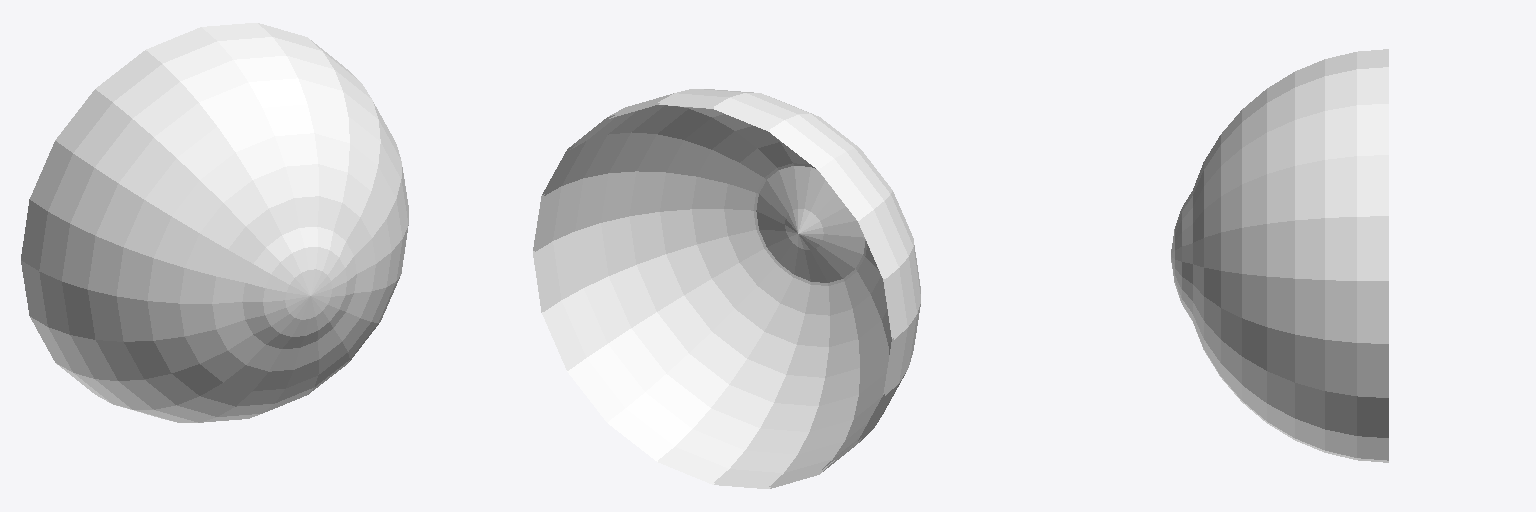
Rendered from eye.obj.
3 renders of one model, left to right at view 1: azimuth 30°, elevation 25°; view 2: azimuth 150°, elevation 25°; view 3: azimuth 270°, elevation 25°, orthographic.
Bounding box in the file's own units: 2 × 2 × 1.05.